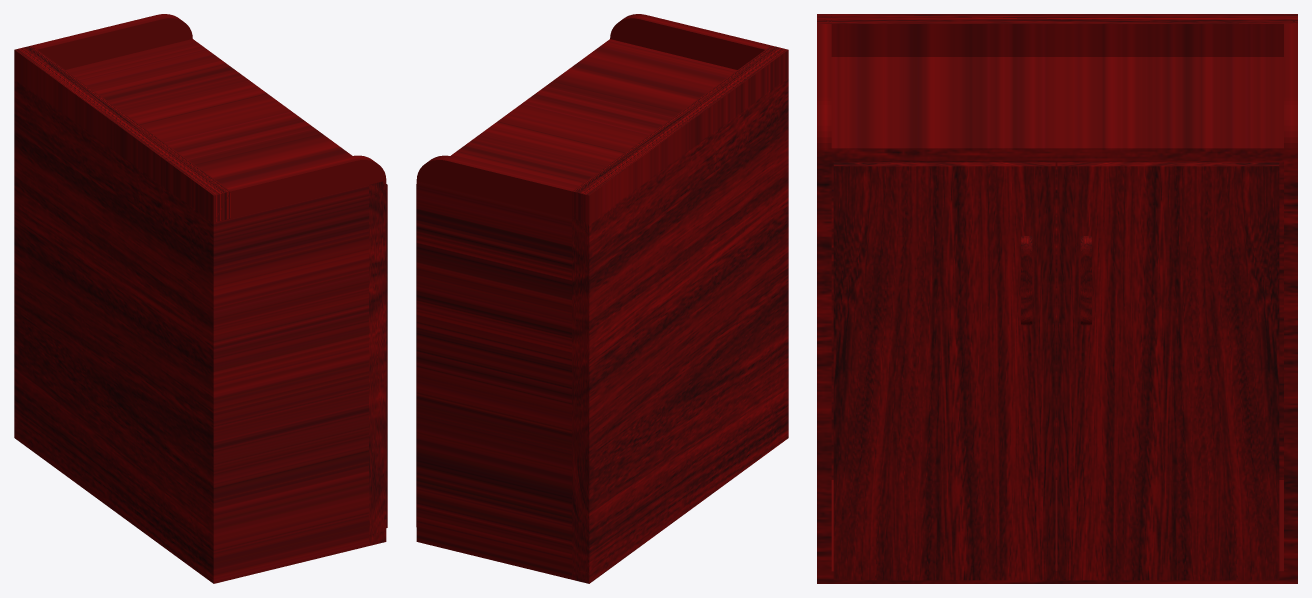
3 views of the same model, side by side, from view 1: azimuth 30°, elevation 25°; view 2: azimuth 150°, elevation 25°; view 3: azimuth 270°, elevation 25° (orthographic). The views are drawn at different scales.
Visible parts, largest first — view 1: Cube, 门; view 2: Cube; view 3: 门, Cube.
Part boxes in pixels (x1,y1,x2,y2): Cube: [14, 14, 386, 583]; 门: [386, 184, 387, 527]; Cube: [416, 14, 788, 583]; 门: [833, 162, 1279, 580]; Cube: [817, 14, 1297, 583].
Bounding box in the file's own units: 2.2 × 4.3 × 4.
Materials: 2 (2 with a texture image).
